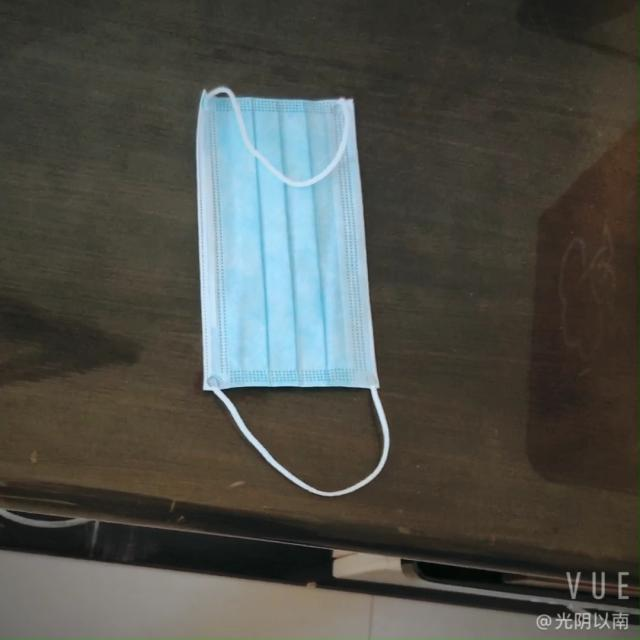non-organic waste: (190, 85, 370, 402)
